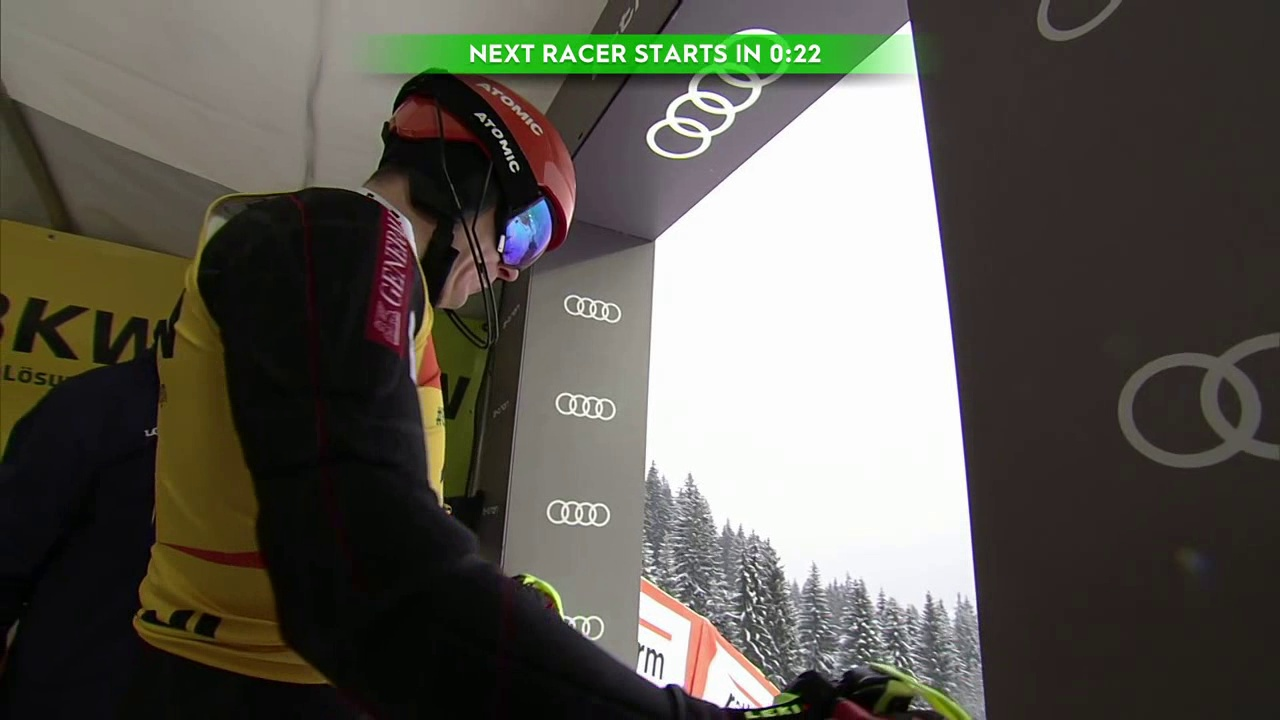audi: (1113, 327, 1271, 478), (645, 77, 773, 167), (544, 501, 619, 534), (554, 394, 621, 427), (562, 296, 627, 329), (549, 613, 609, 645)
